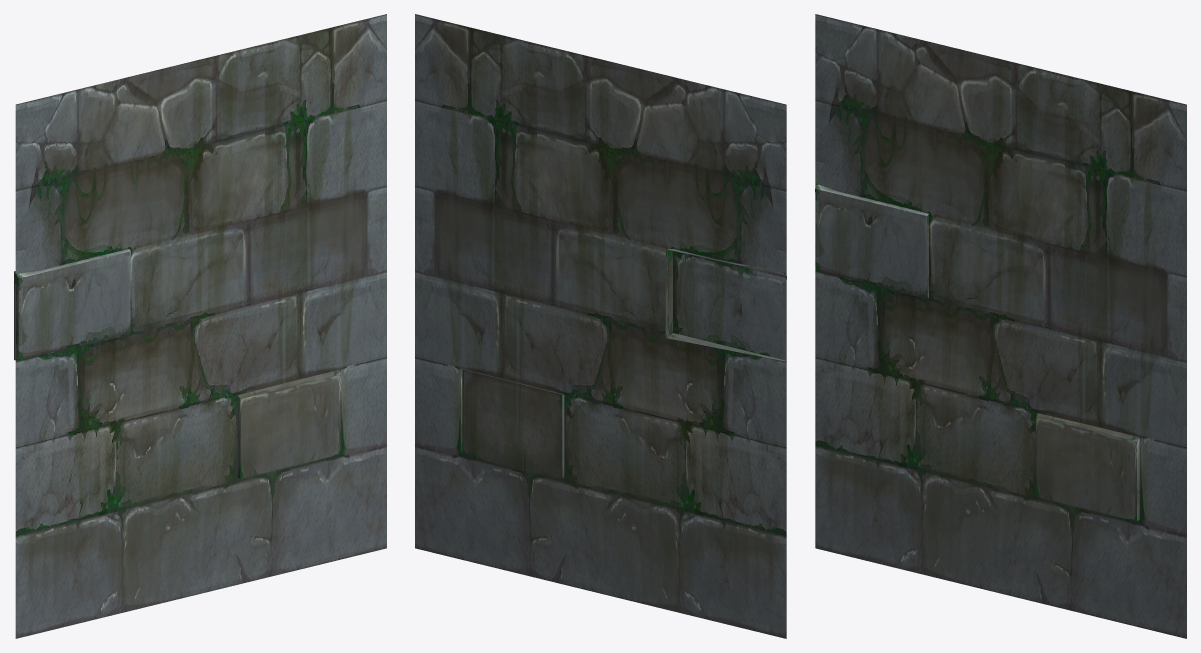
Rendered from stemple_wall_straight_04.fbx.
3 renders of one model, left to right at view 1: azimuth 30°, elevation 25°; view 2: azimuth 150°, elevation 25°; view 3: azimuth 330°, elevation 25°, orthographic.
Visible parts, largest first — view 1: stemple_wall_straight_04-0; view 2: stemple_wall_straight_04-0; view 3: stemple_wall_straight_04-0.
Part boxes in pixels (x1=…): stemple_wall_straight_04-0: x1=14, y1=14, x2=386, y2=638; stemple_wall_straight_04-0: x1=415, y1=14, x2=786, y2=638; stemple_wall_straight_04-0: x1=815, y1=14, x2=1186, y2=638.
Bounding box in the file's own units: 4.01 × 5.5 × 0.1653.
